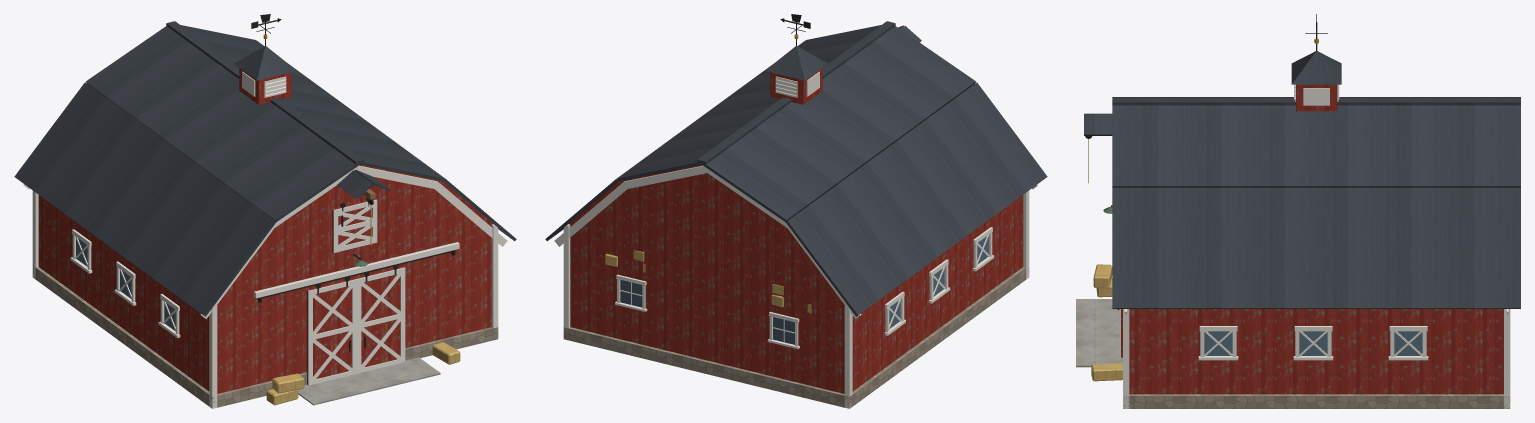
Rendered from barn.glb.
3 views of the same model, side by side, from view 1: azimuth 30°, elevation 25°; view 2: azimuth 150°, elevation 25°; view 3: azimuth 270°, elevation 25° (orthographic). The views are drawn at different scales.
Parts seen in each view (by area): view 1: Barn, BarnDoorL, BarnDoorR; view 2: Barn; view 3: Barn.
Part boxes in pixels (x1,y1,x2,y2): Barn: [14, 14, 516, 408]; BarnDoorL: [306, 276, 356, 385]; BarnDoorR: [355, 264, 405, 373]; Barn: [545, 14, 1047, 408]; Barn: [1076, 14, 1520, 408].
Bounding box in the file's own units: 12.3 × 11.05 × 14.05.
Materials: 15 (10 with a texture image).
